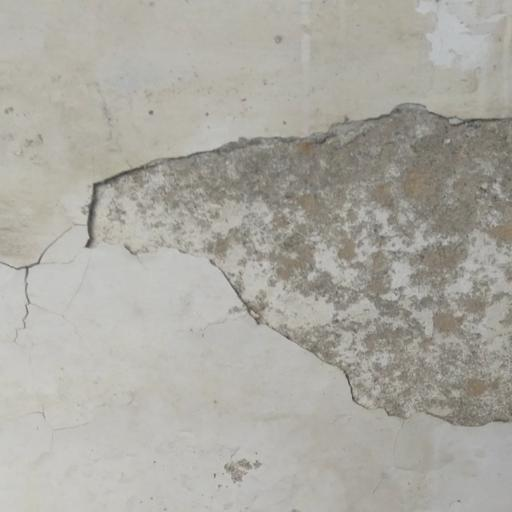spalling: (60, 91, 512, 435)
